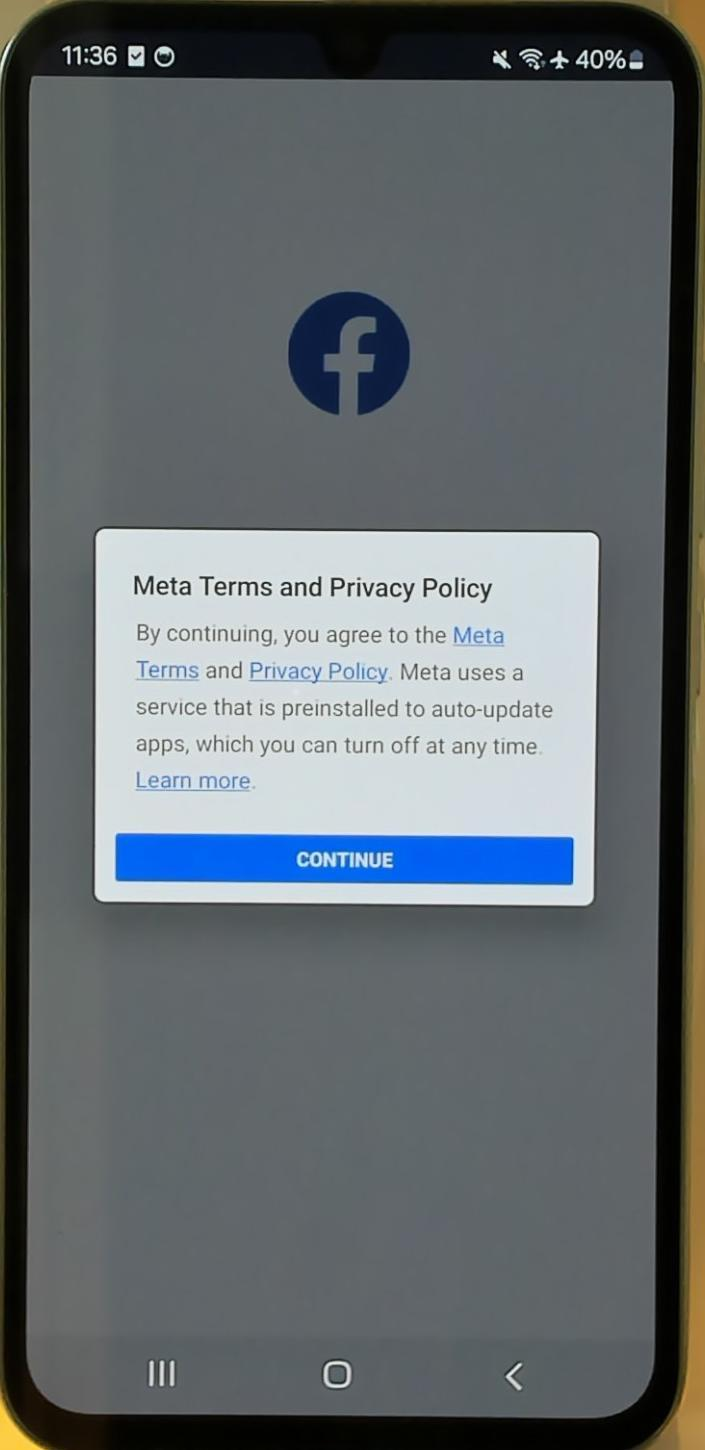CommunBotton: (108, 822, 580, 892), (492, 1332, 536, 1402), (314, 1350, 362, 1402), (140, 1348, 186, 1396)
